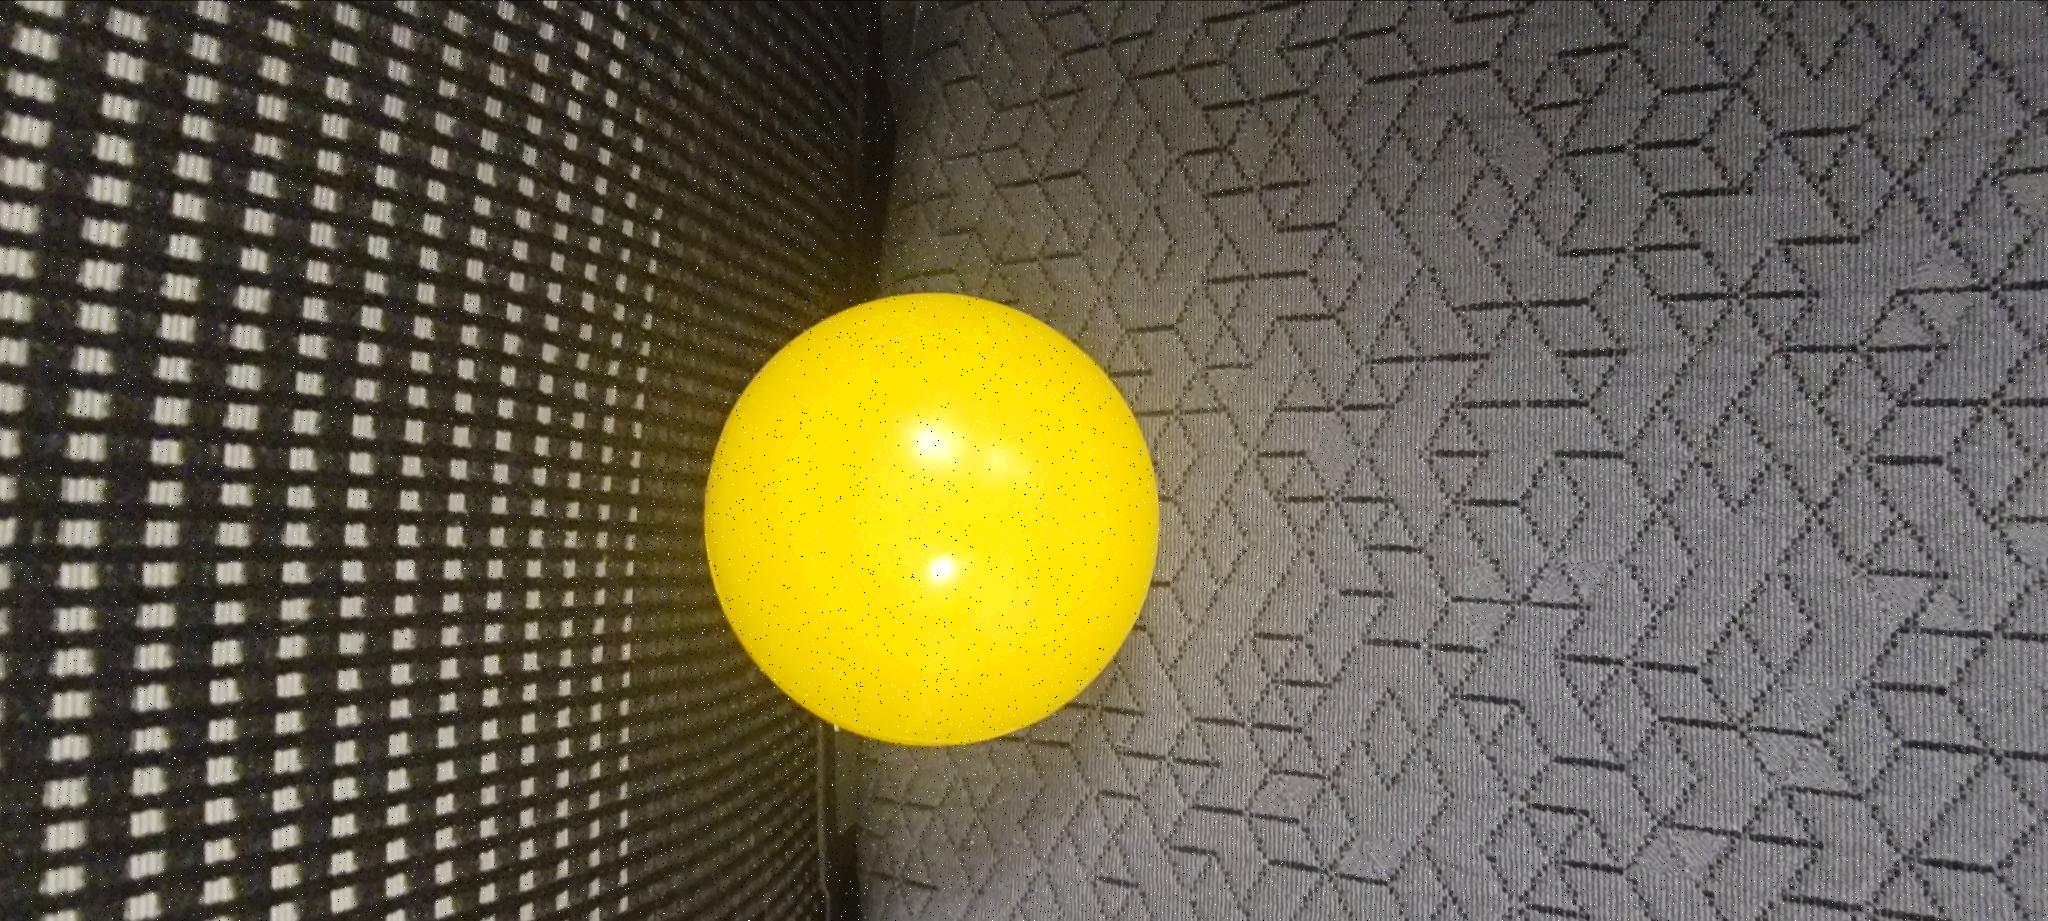Yellow-Ball: (172, 698, 631, 921)
